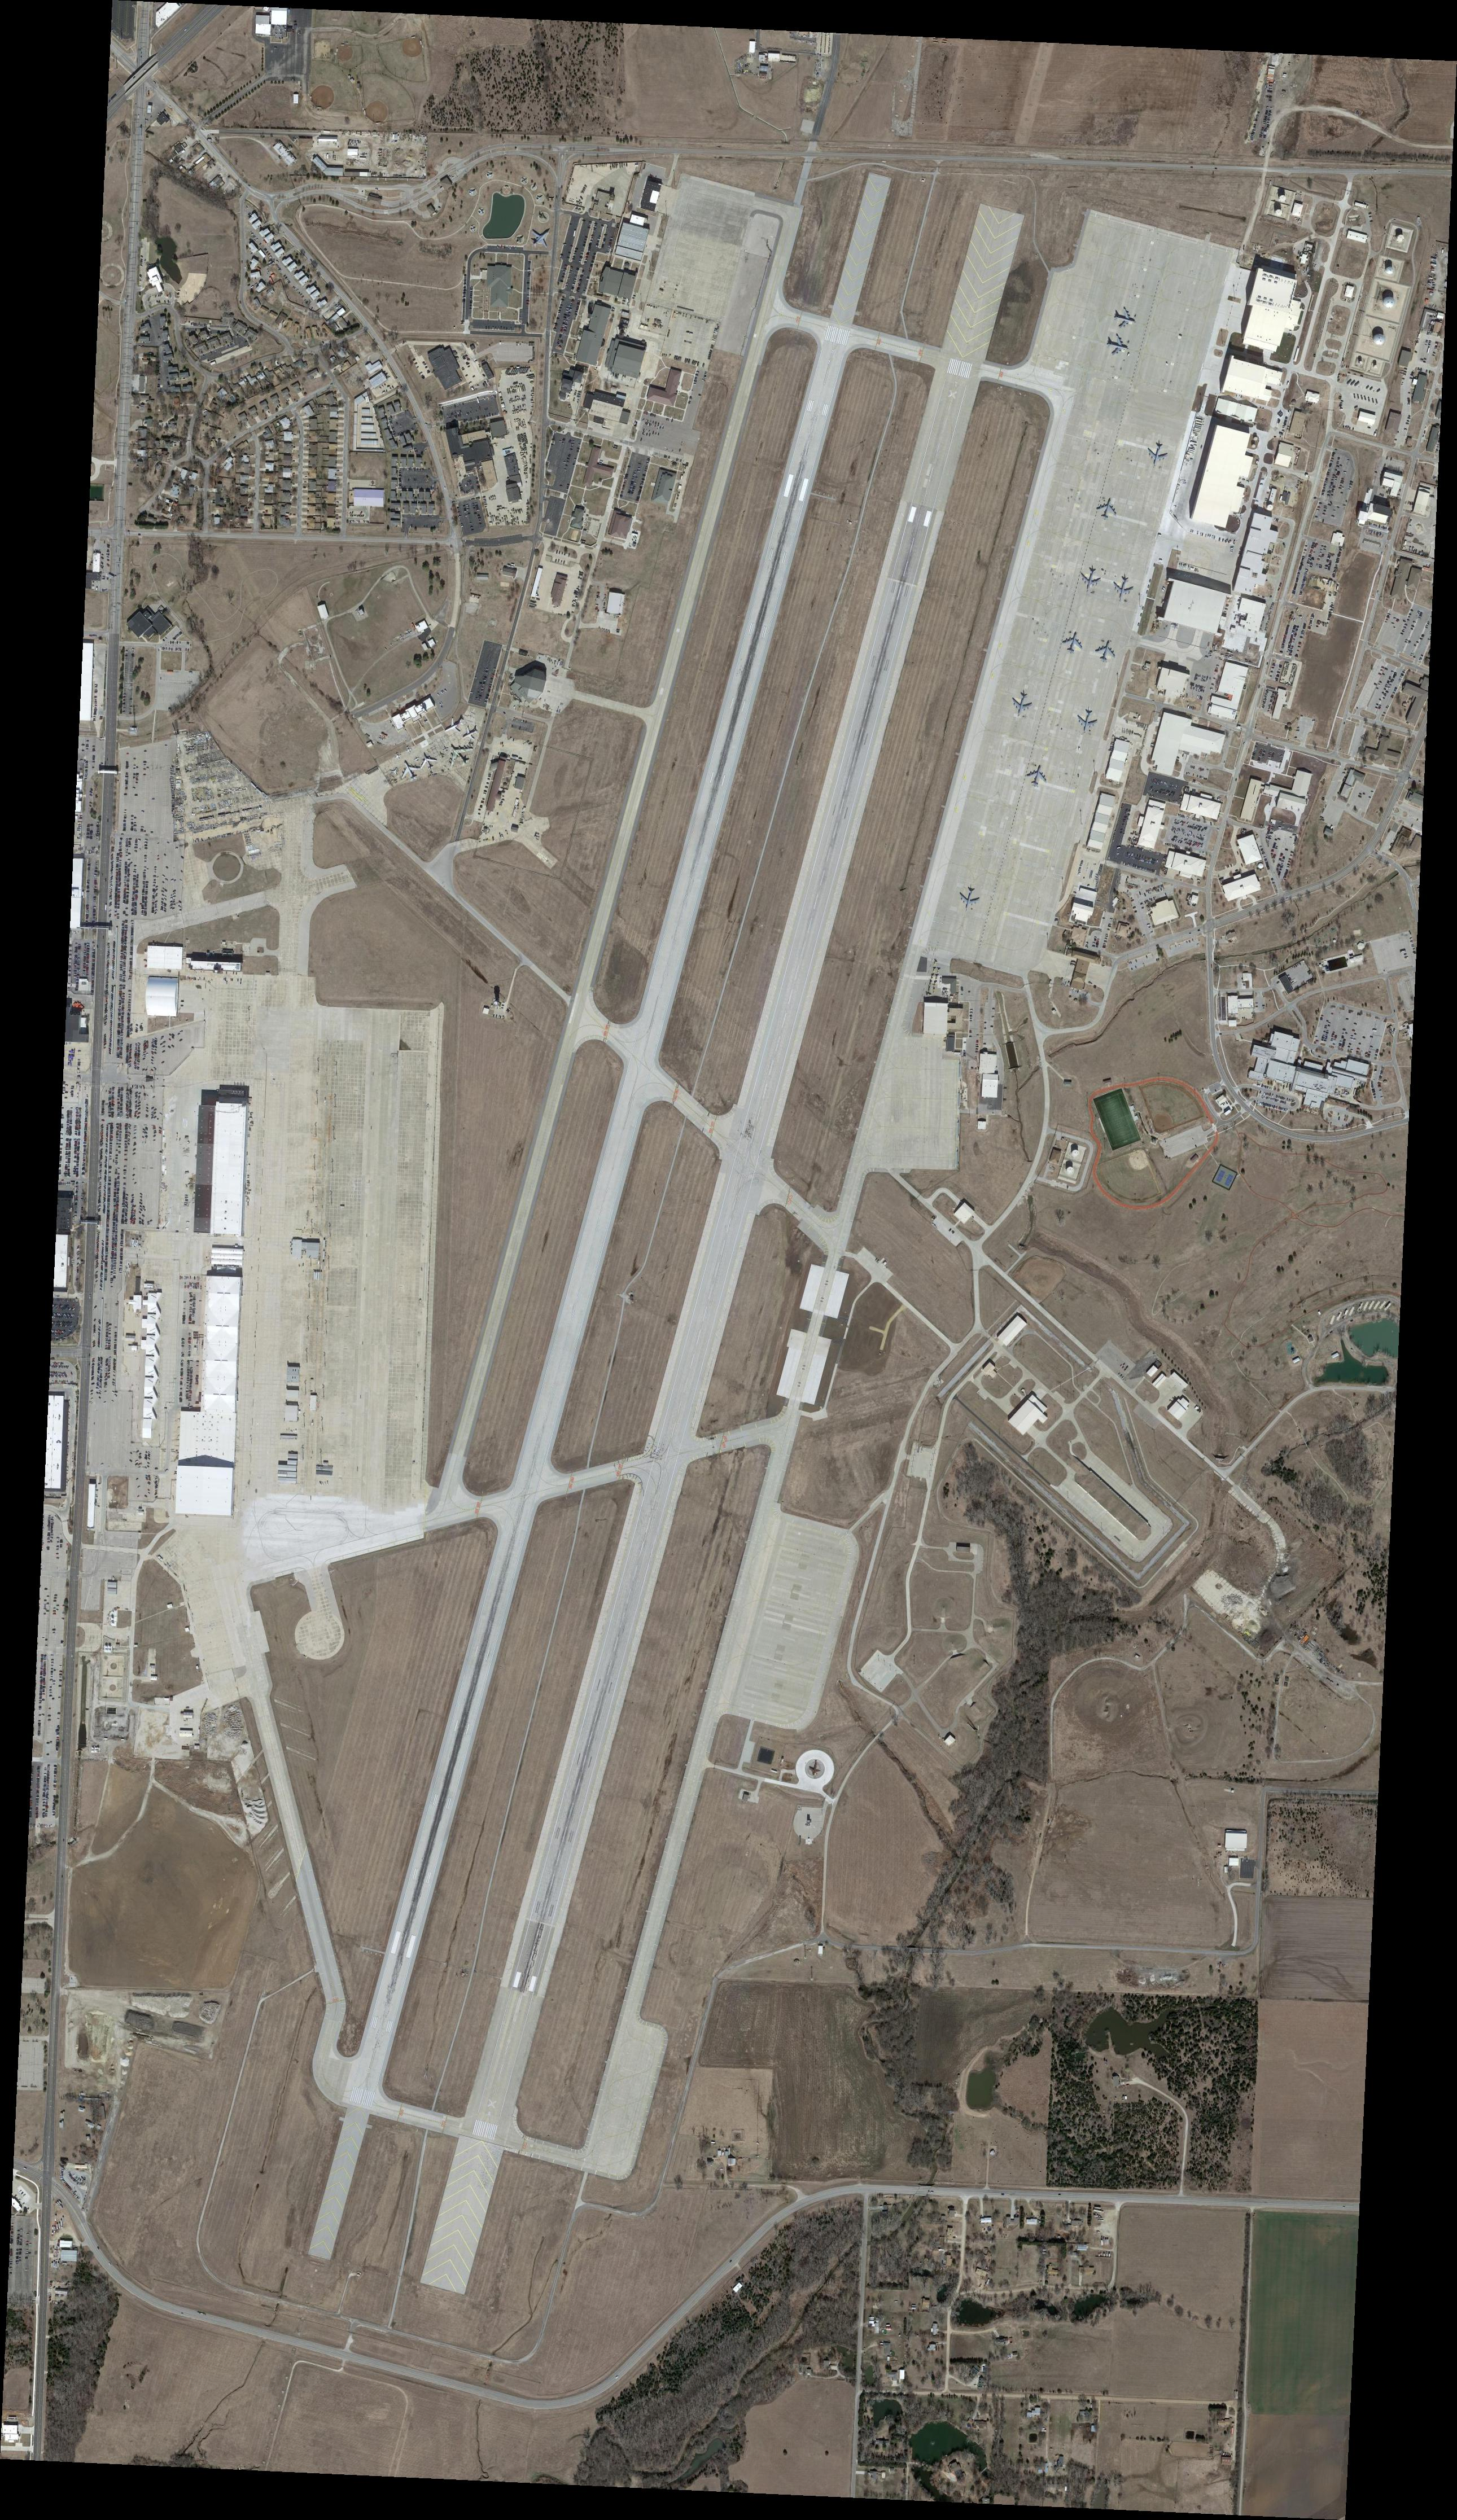plane: (441, 737, 477, 773), (526, 222, 559, 255), (395, 756, 425, 785), (1074, 707, 1101, 737), (956, 886, 983, 913), (1008, 690, 1036, 718), (1108, 575, 1136, 603), (1093, 636, 1119, 664), (1077, 565, 1103, 593), (1094, 496, 1121, 523), (1143, 440, 1169, 468), (1023, 763, 1049, 789), (1060, 629, 1086, 655), (1105, 331, 1131, 357), (1112, 305, 1138, 331), (442, 714, 467, 738), (416, 750, 441, 773), (460, 723, 480, 744), (807, 1761, 822, 1776), (538, 210, 550, 222), (467, 185, 479, 196), (513, 234, 526, 244), (404, 745, 415, 756), (394, 752, 404, 763), (534, 192, 545, 203), (519, 175, 529, 185), (404, 627, 415, 638), (486, 170, 494, 180), (392, 636, 401, 646), (477, 208, 486, 217), (397, 633, 406, 641), (468, 225, 477, 232), (439, 750, 446, 759), (442, 745, 451, 752), (415, 756, 421, 764), (468, 740, 475, 747), (389, 643, 394, 648)
